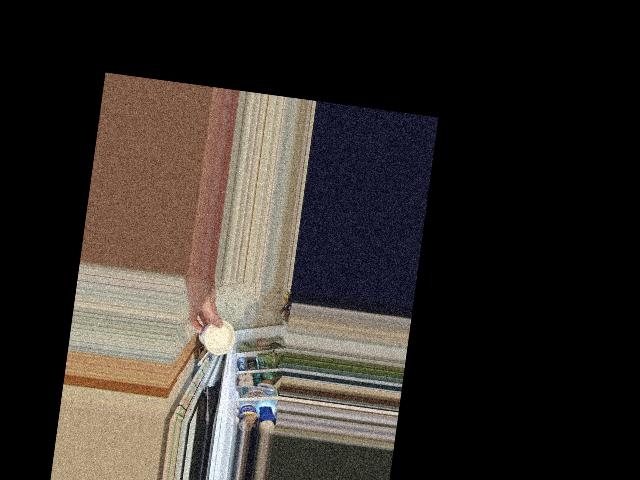cotage: (192, 318, 234, 357)
